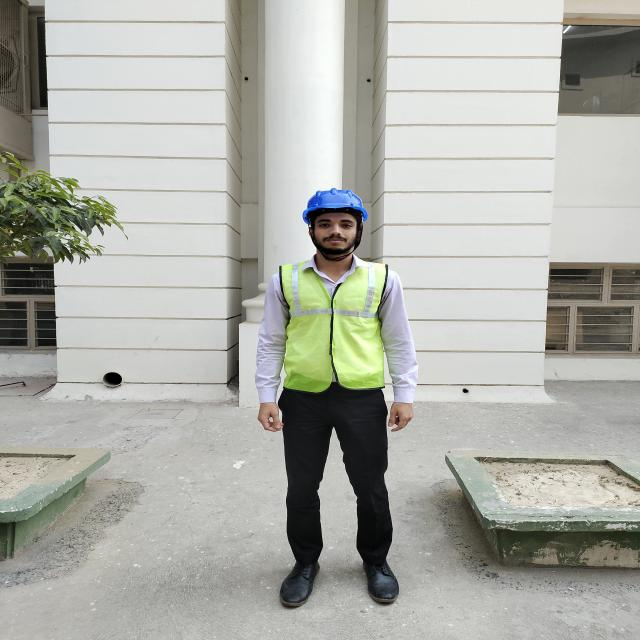safe: (260, 188, 420, 606)
